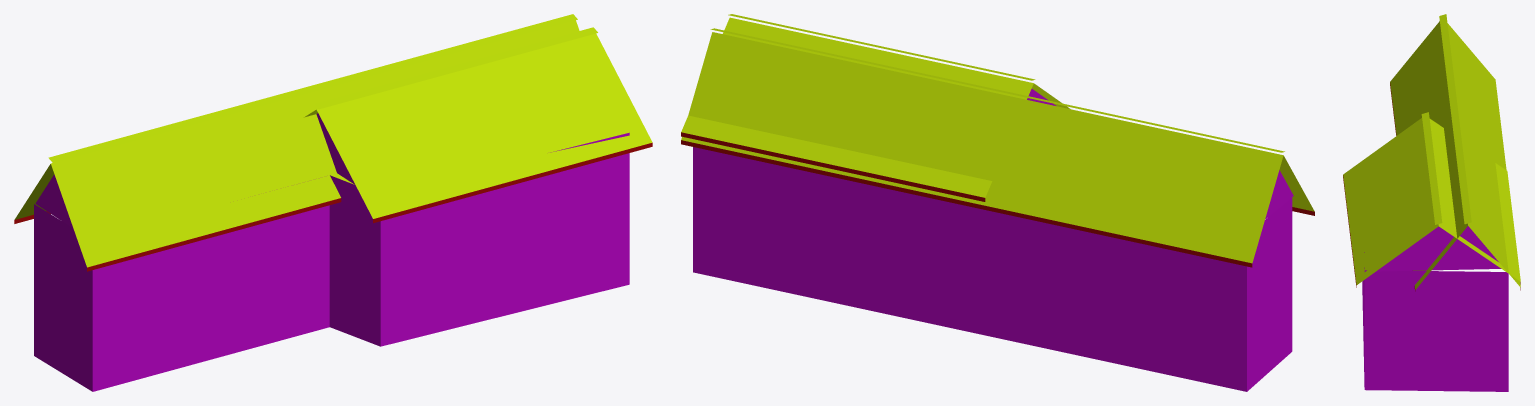
The model's file is mtc_4.glb.
The picture shows the model from 3 angles, left to right: view 1: azimuth 30°, elevation 25°; view 2: azimuth 150°, elevation 25°; view 3: azimuth 270°, elevation 25°; orthographic projection. The views are drawn at different scales.
Visible parts, largest first — view 1: mtc_4; view 2: mtc_4; view 3: mtc_4.
Part boxes in pixels (x1=…): mtc_4: x1=14, y1=14, x2=652, y2=391; mtc_4: x1=681, y1=14, x2=1314, y2=391; mtc_4: x1=1343, y1=14, x2=1520, y2=391.
Size of the model in its own units: 16.71 by 6.33 by 5.92.
